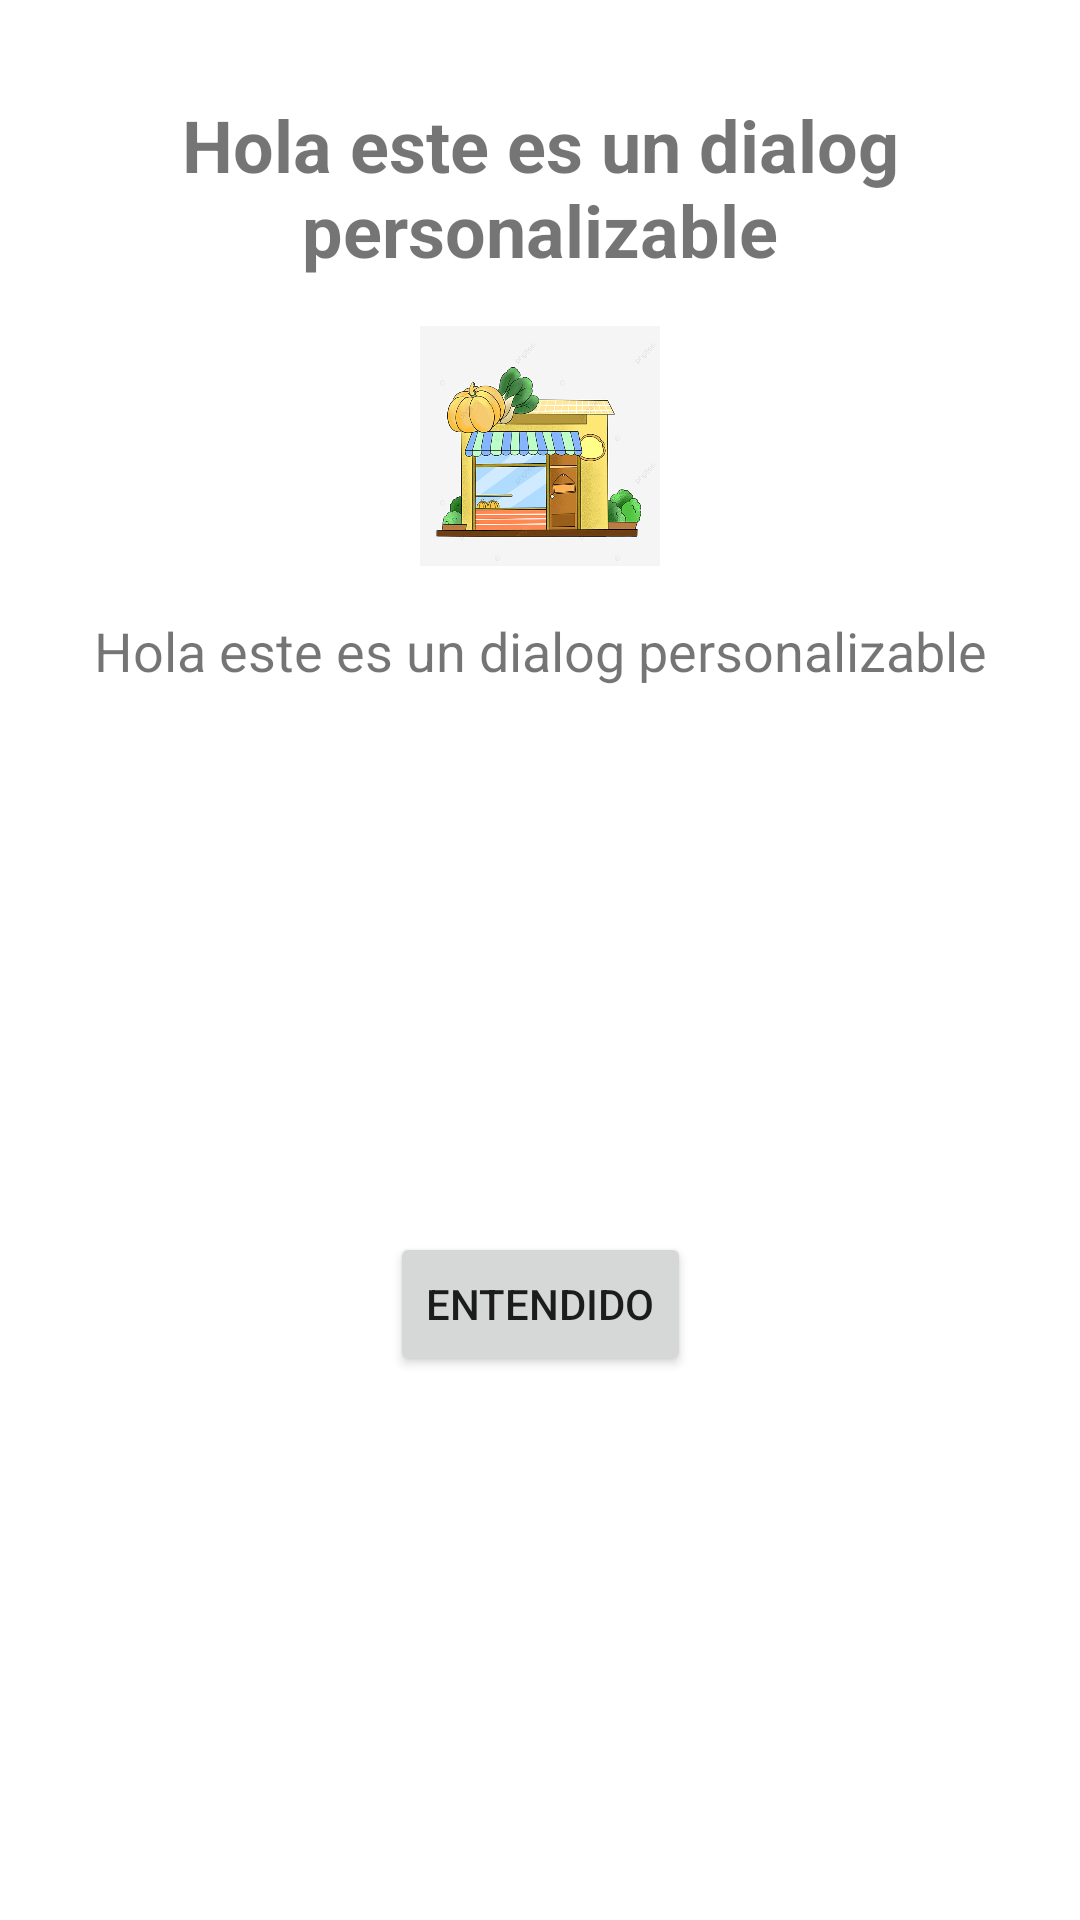

Icons on this 1080×1920 Android screen, each with the point to tap as point (x, y):
tienda: point (545, 442)
